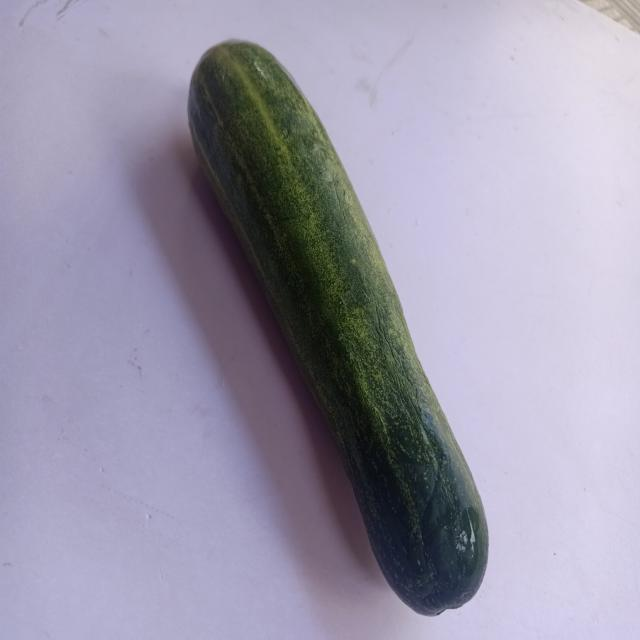Cucumber: (188, 40, 489, 616)
